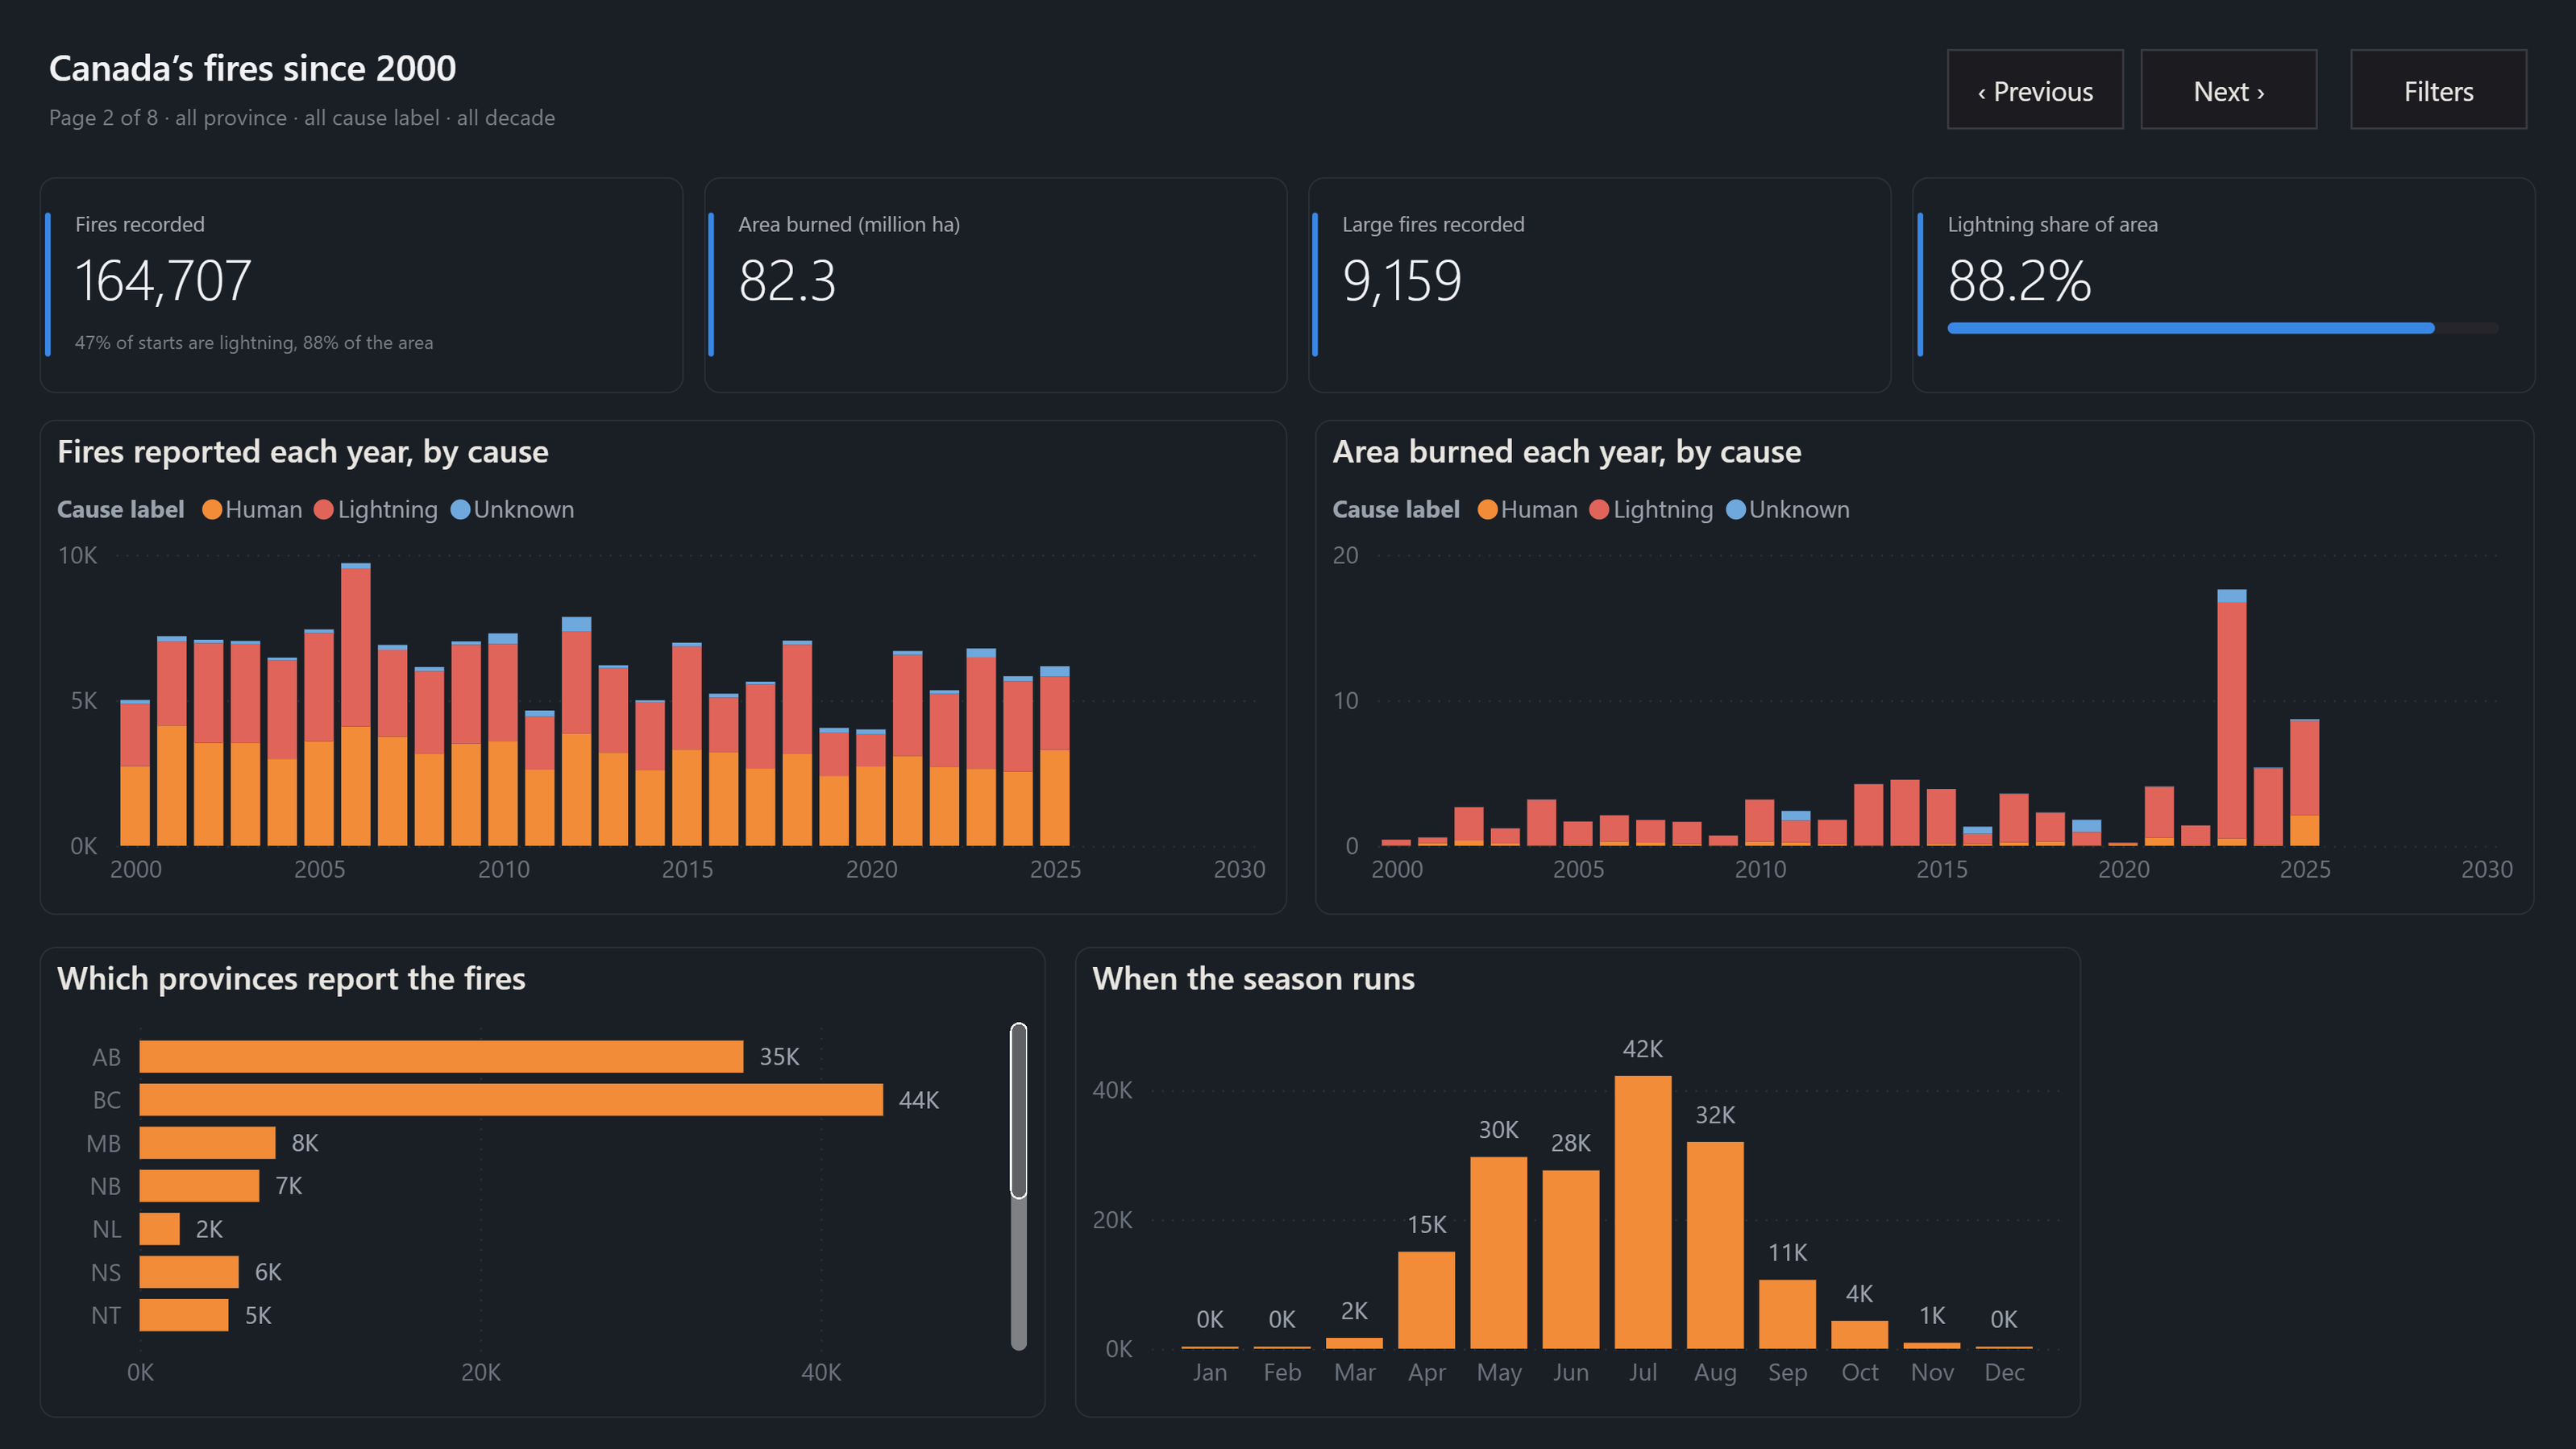

This screenshot's page, from the dashboard's own definition file:
{"tool":"powerbi","page":{"name":"Page 1","canvas":[1280,720],"ordinal":0},"visuals":[{"type":"barChart","fields":{"Y":["Sum(NFD - Area burned by fire size class - EN FR.Area (hectares))"],"Category":["NFD - Area burned by fire size class - EN FR.Jurisdiction"]},"box":[0,109.2,393.9,262.6],"z":0},{"type":"lineStackedColumnComboChart","fields":{"Category":["NFD - Area burned by fire size class - EN FR.Year"],"Y":["Sum(NFD - Area burned by fire size class - EN FR.Area (hectares))"]},"box":[35.2,395.3,434.5,324.9],"z":1000},{"type":"pieChart","box":[393.9,120.8,328.8,255.6],"z":2000},{"type":"map","box":[434.5,392.7,433.4,327.7],"z":3000},{"type":"slicer","box":[620.2,0,205.1,86.4],"z":4000},{"type":"cardVisual","box":[1074.2,3.1,193.3,109.6],"z":5000},{"type":"slicer","fields":{"Values":["NFD - Area burned by fire size class - EN FR.Jurisdiction"]},"box":[0,0,320.3,85.2],"z":6000},{"type":"slicer","fields":{"Values":["NFD - Area burned by fire size class - EN FR.Year"]},"box":[319.8,0,300.1,85.7],"z":7000},{"type":"cardVisual","fields":{"Data":["Sum(NFD - Area burned by fire size class - EN FR.Area (hectares))"]},"box":[826.1,0,248.1,116.8],"z":8000},{"type":"lineChart","fields":{"Y":["Sum(NFD - Number of fires by fire size class - EN FR.Number)"],"Category":["NFD - Area burned by fire size class - EN FR.Year"]},"box":[722.7,129,263.7,247.5],"z":9000},{"type":"lineChart","box":[867.9,376.5,412.5,343.9],"z":10000},{"type":"waterfallChart","box":[986.4,129,284.7,219.6],"z":11000}]}

Visuals, with their boxes in screenshot pixels (x1, y1, x2, y2), scaled from the page's 1280x720 canvas onto the 2576x1449 screenshot:
barChart - Sum(NFD - Area burned by fire size class - EN FR.Area (hectares)) x NFD - Area burned by fire size class - EN FR.Jurisdiction: x1=0 y1=220 x2=793 y2=748
lineStackedColumnComboChart - NFD - Area burned by fire size class - EN FR.Year x Sum(NFD - Area burned by fire size class - EN FR.Area (hectares)): x1=71 y1=795 x2=945 y2=1448
pieChart: x1=793 y1=243 x2=1454 y2=758
map: x1=875 y1=791 x2=1747 y2=1448
slicer: x1=1249 y1=0 x2=1661 y2=174
cardVisual: x1=2162 y1=6 x2=2551 y2=226
slicer - NFD - Area burned by fire size class - EN FR.Jurisdiction: x1=0 y1=0 x2=645 y2=172
slicer - NFD - Area burned by fire size class - EN FR.Year: x1=644 y1=0 x2=1248 y2=172
cardVisual - Sum(NFD - Area burned by fire size class - EN FR.Area (hectares)): x1=1663 y1=0 x2=2162 y2=235
lineChart - Sum(NFD - Number of fires by fire size class - EN FR.Number) x NFD - Area burned by fire size class - EN FR.Year: x1=1454 y1=259 x2=1985 y2=758
lineChart: x1=1747 y1=758 x2=2575 y2=1448
waterfallChart: x1=1985 y1=259 x2=2558 y2=702
